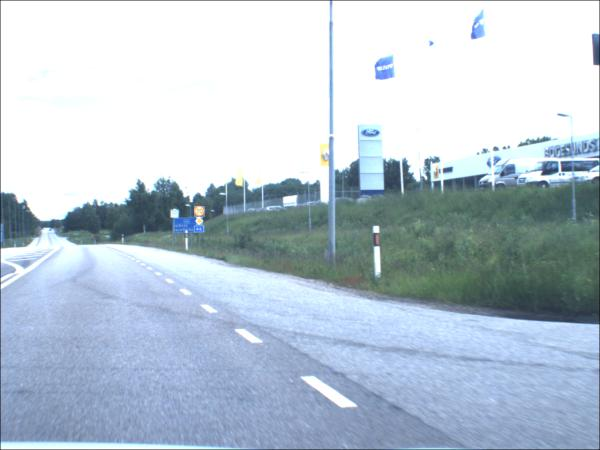70_SIGN: (195, 207, 207, 219)
PRIORITY_ROAD: (197, 218, 205, 227)
